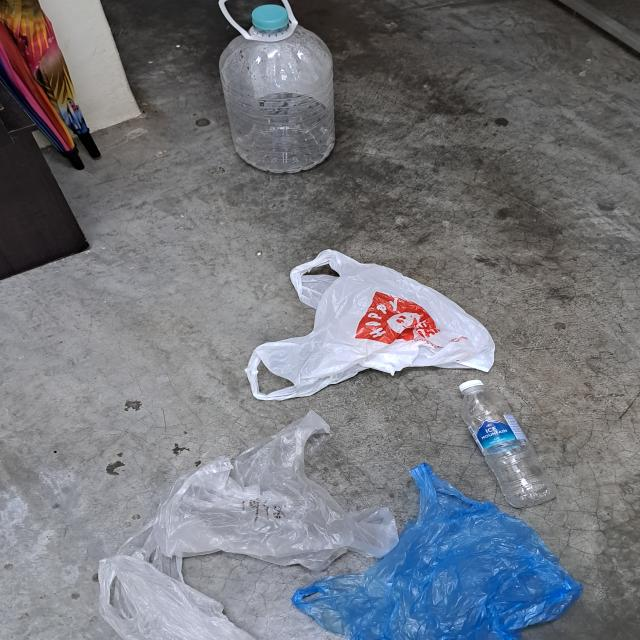plastic bag: (97, 417, 383, 640), (301, 465, 593, 640), (238, 247, 502, 402)
plastic bottle: (216, 34, 338, 174), (453, 390, 560, 508)
plastic bottle cap: (250, 4, 292, 32), (457, 377, 484, 391)
